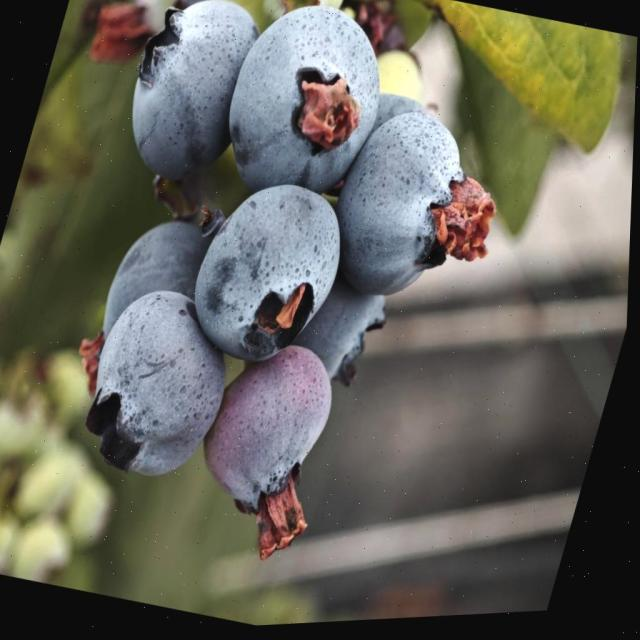RipeBlueBerry: (207, 0, 407, 216), (174, 163, 364, 386), (68, 274, 254, 501), (321, 99, 504, 325), (105, 0, 268, 201)
Semi-RipeBlueBerry: (183, 326, 358, 561)
